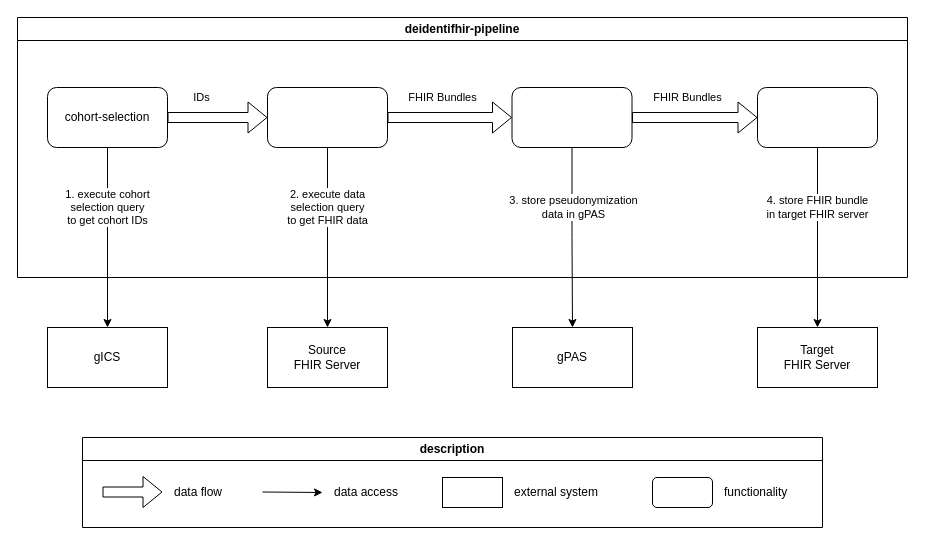
The diagram is 925 pixels wide and 545 high, and some of its shapes have lost their labels. Here are the shapes that lost their labels. From the top down, the centre of each, then its label:
(327,117): data-selection
(571,117): pseudonymization
(817,117): data-storing
